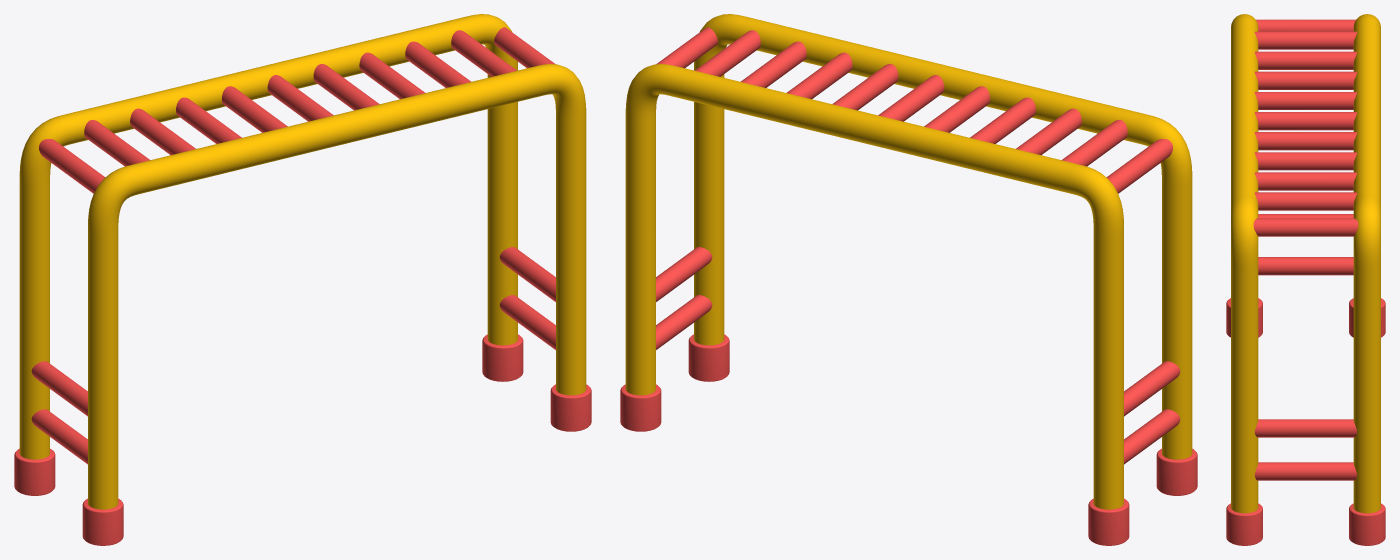
File: City_18_Monkey_Bars_1.glb
The picture shows the model from 3 angles, left to right: view 1: azimuth 30°, elevation 25°; view 2: azimuth 150°, elevation 25°; view 3: azimuth 270°, elevation 25°; orthographic projection. The views are drawn at different scales.
Visible parts, largest first — view 1: City_18_Monkey_Bars_1; view 2: City_18_Monkey_Bars_1; view 3: City_18_Monkey_Bars_1.
Boxes of the visible parts, bbox=[...] form: City_18_Monkey_Bars_1: bbox=[14, 14, 591, 545]; City_18_Monkey_Bars_1: bbox=[620, 14, 1197, 545]; City_18_Monkey_Bars_1: bbox=[1226, 14, 1385, 545].
Bounding box in the file's own units: 2.74 × 1.9 × 0.8369.
Materials: 1 (1 with a texture image).
